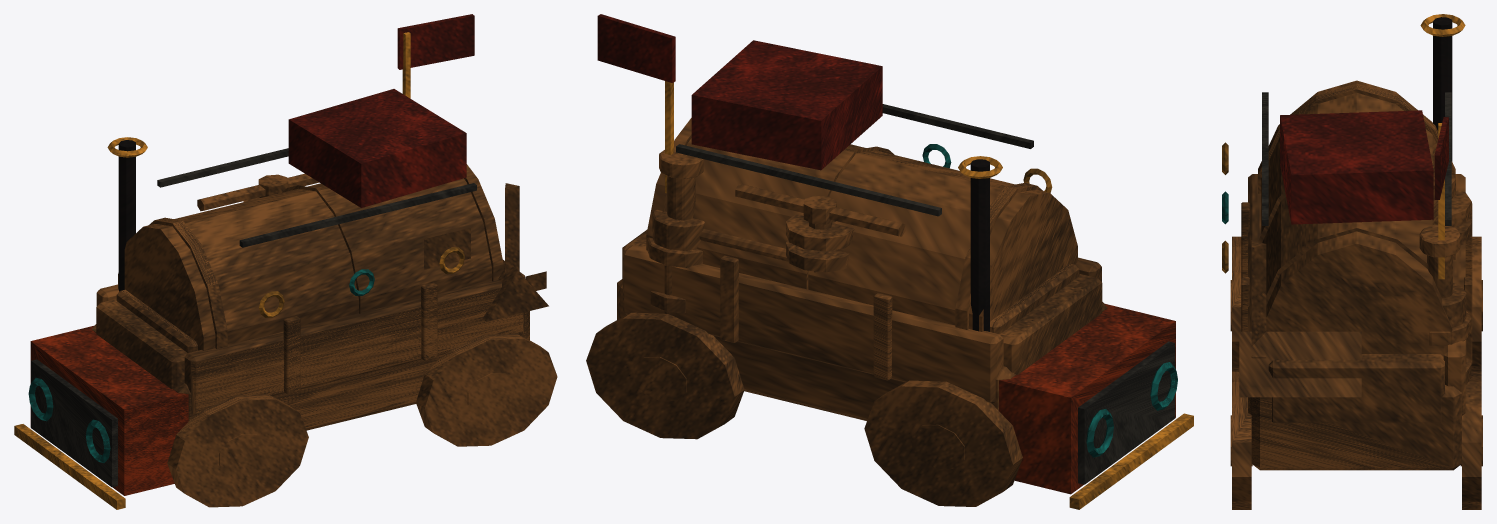
File: convoy-lead-hauler-start.glb
3 views of the same model, side by side, from view 1: azimuth 30°, elevation 25°; view 2: azimuth 150°, elevation 25°; view 3: azimuth 270°, elevation 25° (orthographic). The views are drawn at different scales.
Parts seen in each view (by area): view 1: convoy-lead-hauler-start; view 2: convoy-lead-hauler-start; view 3: convoy-lead-hauler-start.
Part boxes in pixels (<box>): convoy-lead-hauler-start: <box>14,14,557,509</box>; convoy-lead-hauler-start: <box>586,14,1193,509</box>; convoy-lead-hauler-start: <box>1222,14,1482,509</box>.
Size of the model in its own units: 8.62 by 6.4 by 3.93.
1 material, 1 textured.
